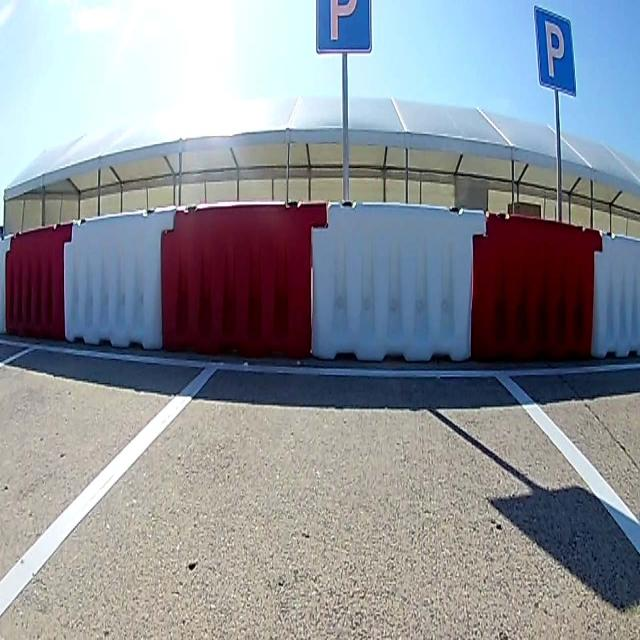park: (534, 6, 577, 95), (318, 1, 370, 51)
